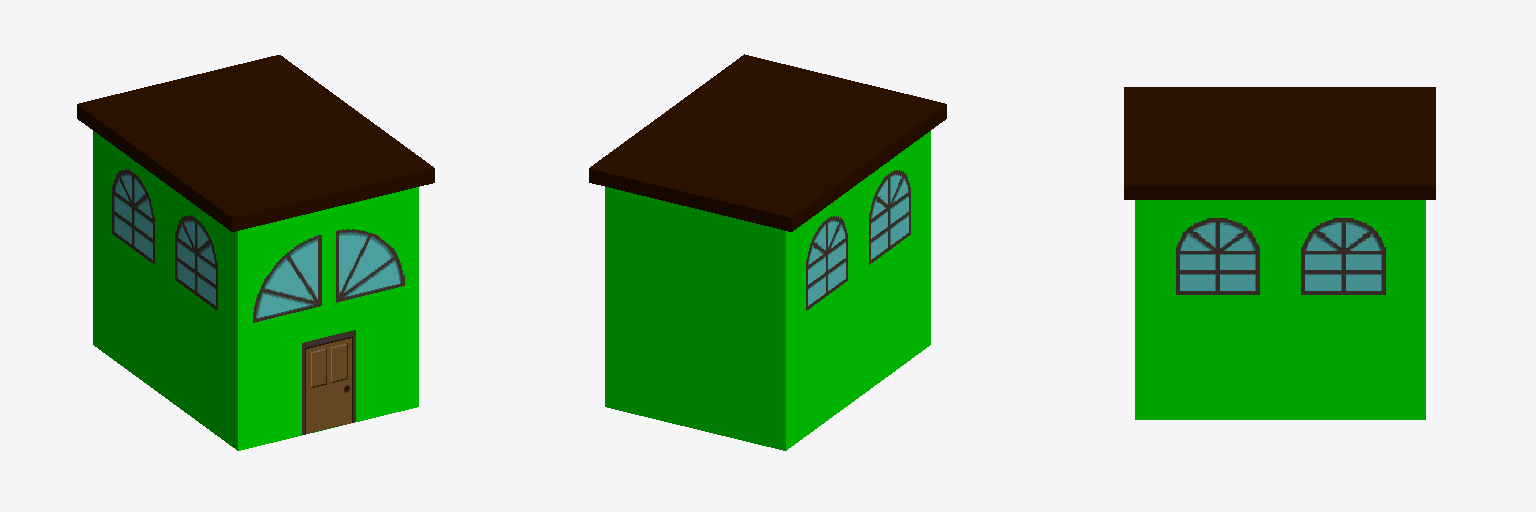
The picture shows the model from 3 angles: view 1: azimuth 30°, elevation 25°; view 2: azimuth 150°, elevation 25°; view 3: azimuth 270°, elevation 25°; orthographic projection.
Parts seen in each view (by area): view 1: SP_TD_House; view 2: SP_TD_House; view 3: SP_TD_House.
Boxes of the visible parts, <box> form: SP_TD_House: <box>77,55,434,450</box>; SP_TD_House: <box>589,54,946,450</box>; SP_TD_House: <box>1124,87,1435,419</box>.
Size of the model in its own units: 7.46 by 8.41 by 9.9.
5 materials, 3 textured.